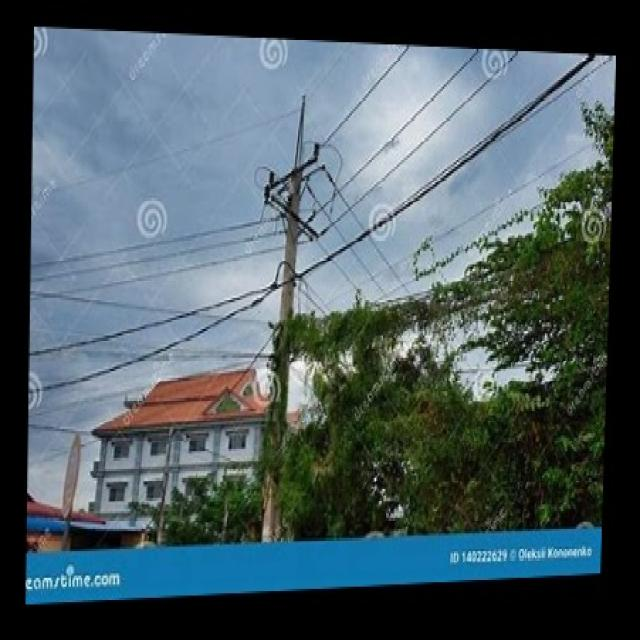critical vegetation: (280, 268, 602, 412)
